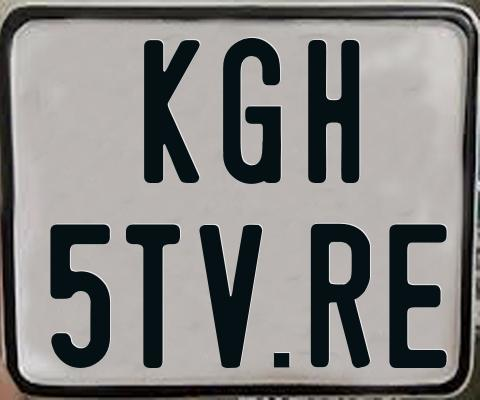5: (48, 224, 109, 371)
E: (386, 221, 450, 365)
G: (221, 38, 280, 188)
H: (305, 39, 359, 188)
K: (143, 37, 199, 180)
R: (311, 223, 370, 373)
T: (126, 223, 185, 373)
V: (199, 224, 268, 370)
